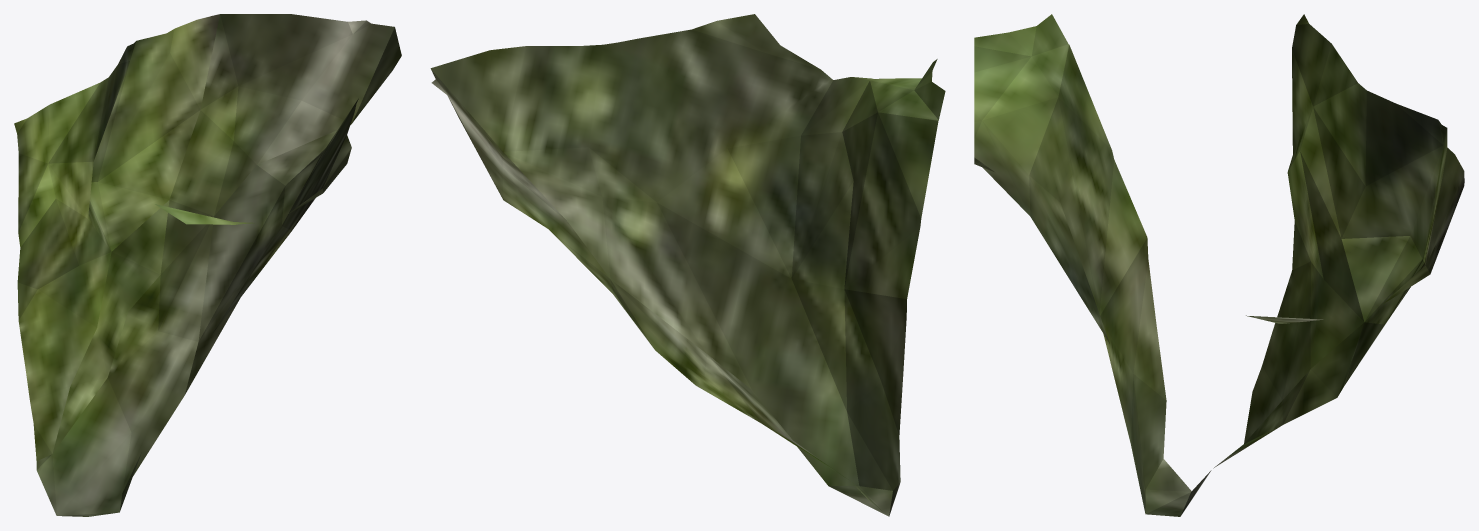
3 views of the same model, side by side, from view 1: azimuth 30°, elevation 25°; view 2: azimuth 150°, elevation 25°; view 3: azimuth 270°, elevation 25° (orthographic). The views are drawn at different scales.
Bounding box in the file's own units: 0.9118 × 0.8185 × 0.7614.
1 material, 1 textured.
